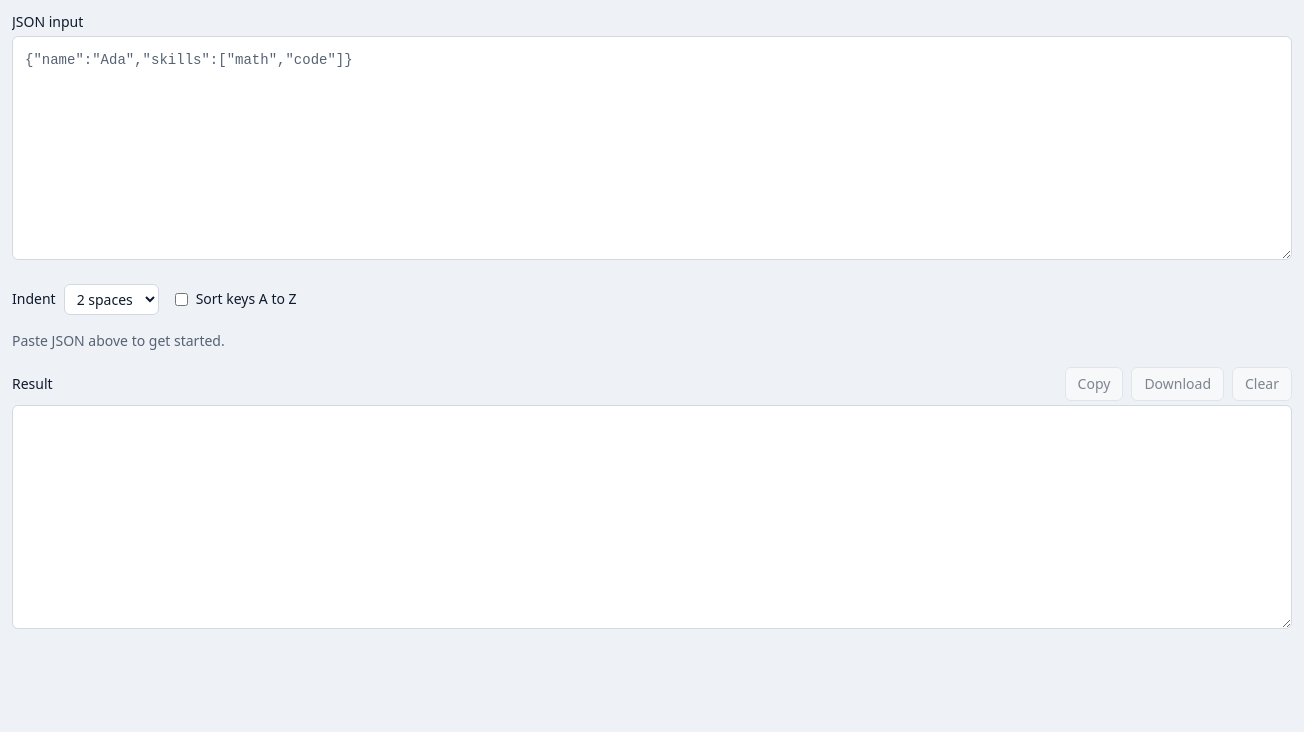
tool components › formats JSON
Step 1. Click the text box labelled "JSON input" → {"x": 652, "y": 148}, box [12,36,1292,260]
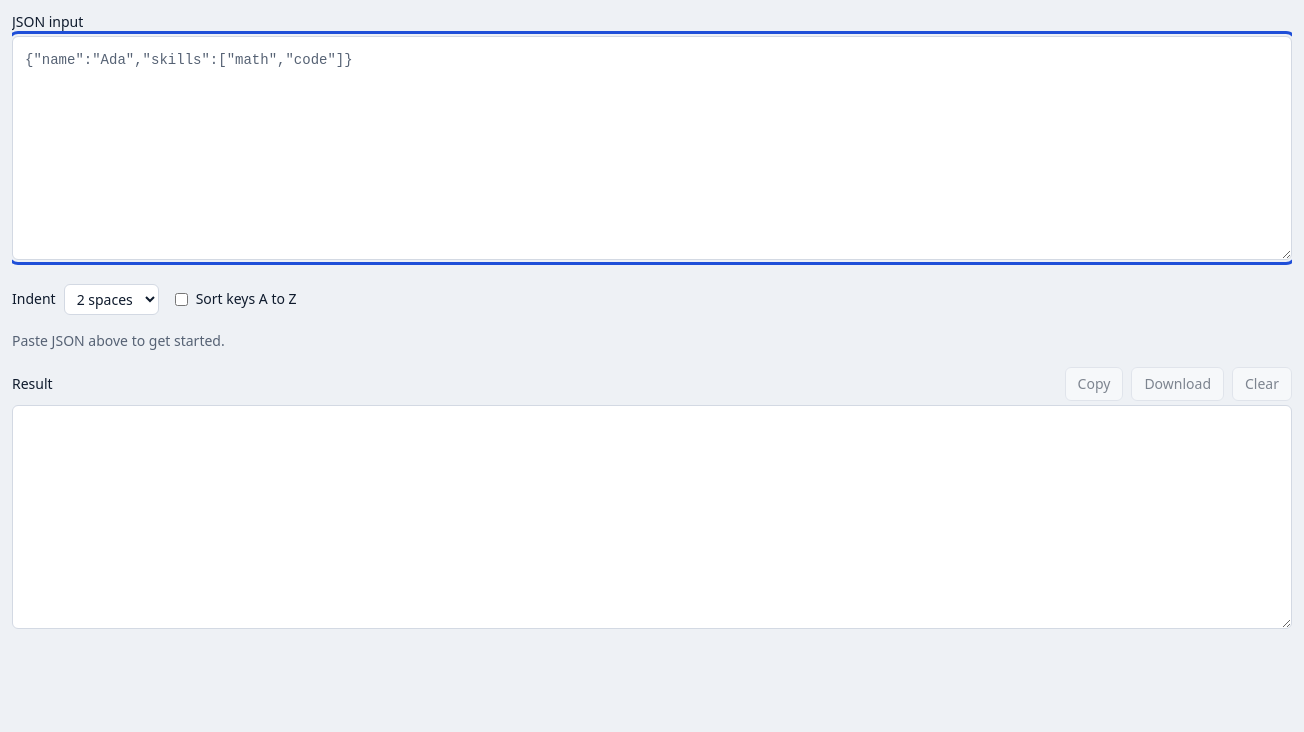
Step 2. Type keys "{\"b\":1,\"a\":2}"
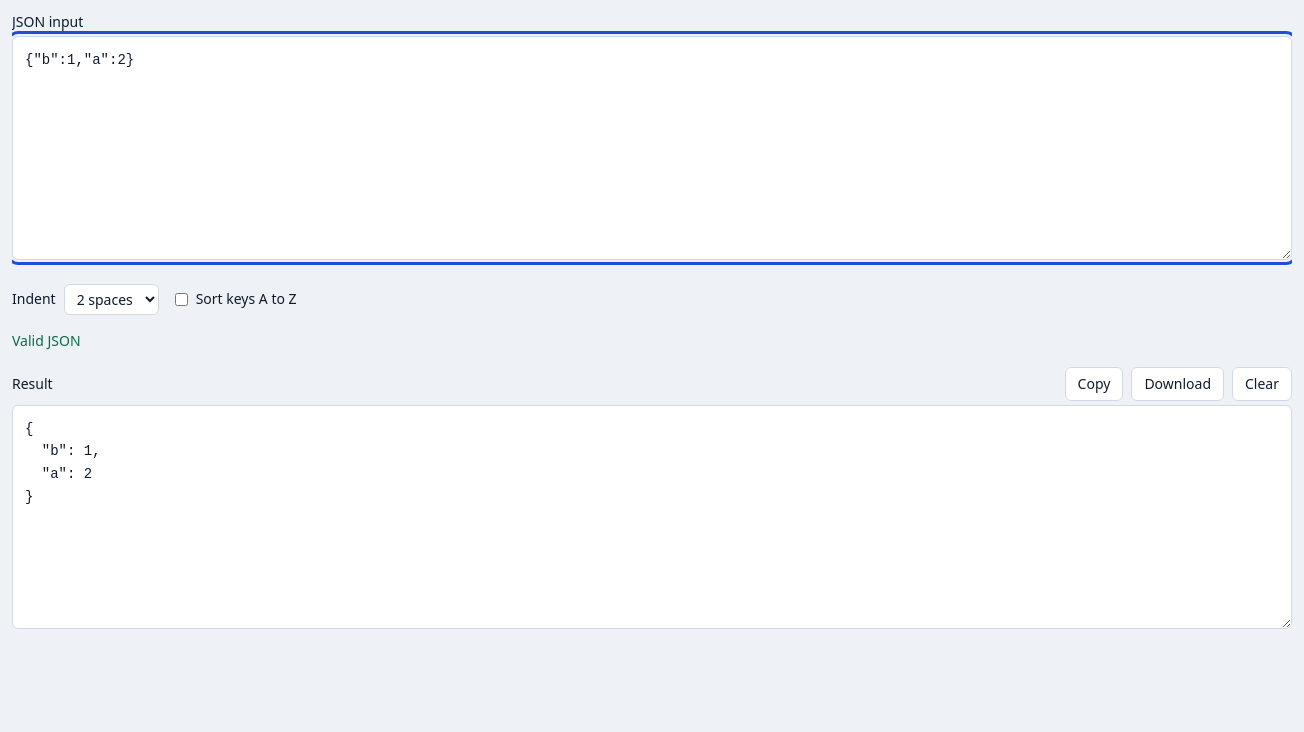
Expected: the text "Valid JSON" is shown, [12,331,80,350]
